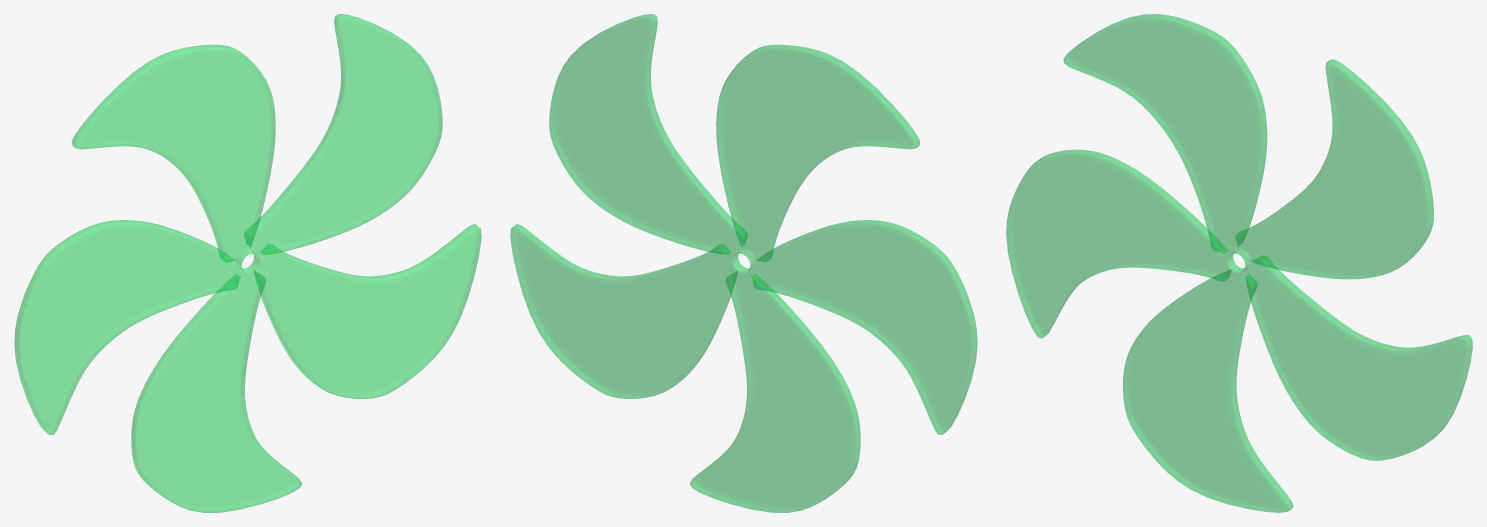
File: fan_wing-meshopt.glb
3 renders of one model, left to right at view 1: azimuth 30°, elevation 25°; view 2: azimuth 150°, elevation 25°; view 3: azimuth 330°, elevation 25°, orthographic.
Bounding box in the file's own units: 1.79 × 1.74 × 0.0399.
